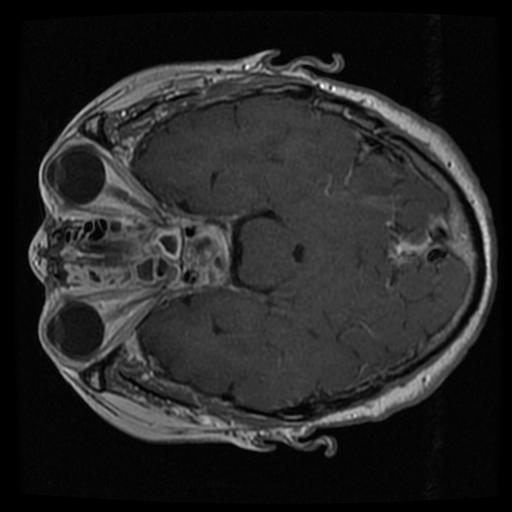pituitary tumour: (181, 224, 229, 289)
